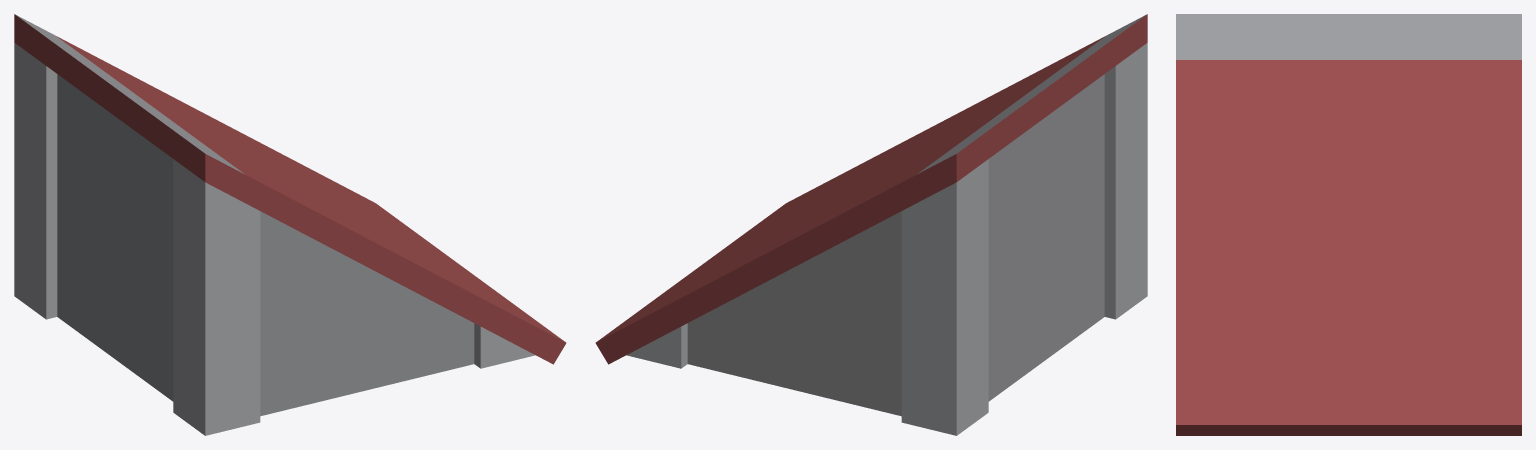
The model's file is Roof_Slant_Red_01.obj.
3 views of the same model, side by side, from view 1: azimuth 30°, elevation 25°; view 2: azimuth 150°, elevation 25°; view 3: azimuth 270°, elevation 25° (orthographic). The views are drawn at different scales.
Visible parts, largest first — view 1: Mesh1_Roof_Slant_Red_Model; view 2: Mesh1_Roof_Slant_Red_Model; view 3: Mesh1_Roof_Slant_Red_Model.
Boxes of the visible parts, x1,y1,x2,y2 form: Mesh1_Roof_Slant_Red_Model: (14,14,566,435); Mesh1_Roof_Slant_Red_Model: (595,14,1147,435); Mesh1_Roof_Slant_Red_Model: (1176,14,1521,435).
Size of the model in its own units: 3.28 by 2.57 by 3.
